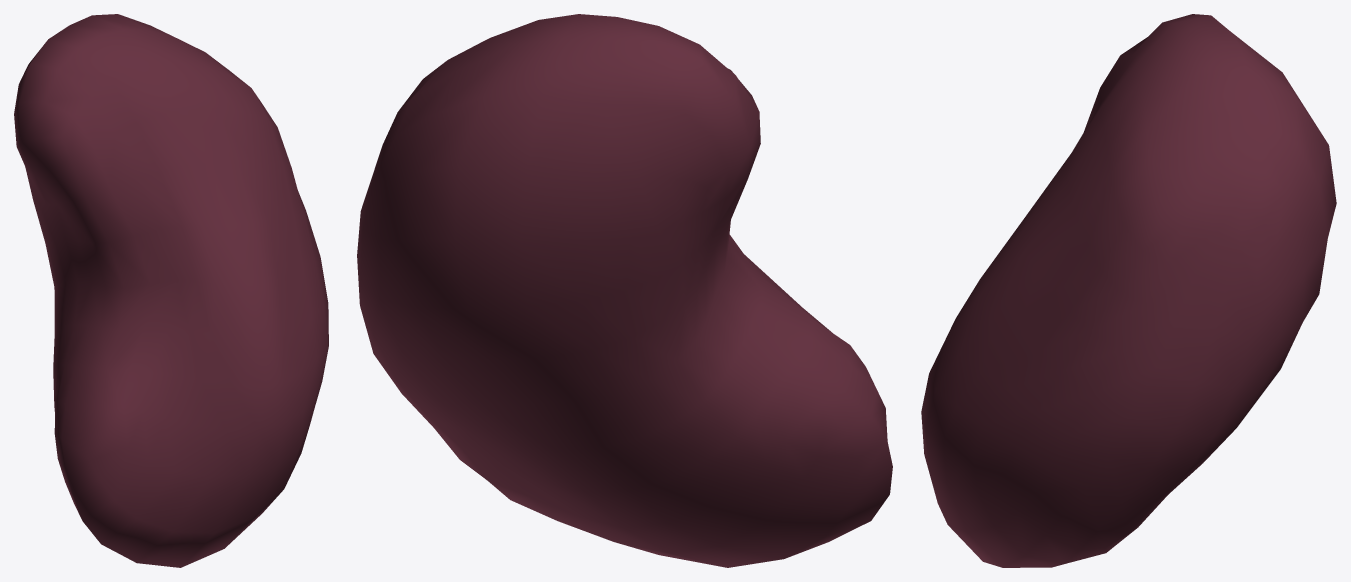
Rendered from kidney_l.glb.
3 renders of one model, left to right at view 1: azimuth 30°, elevation 25°; view 2: azimuth 150°, elevation 25°; view 3: azimuth 270°, elevation 25°, orthographic. The views are drawn at different scales.
Visible parts, largest first — view 1: Kidney_L; view 2: Kidney_L; view 3: Kidney_L.
Boxes of the visible parts, bbox=[...] form: Kidney_L: bbox=[14, 14, 328, 567]; Kidney_L: bbox=[357, 14, 892, 567]; Kidney_L: bbox=[921, 14, 1336, 567].
Size of the model in its own units: 7.03e-09 by 1e-08 by 7.37e-09.
